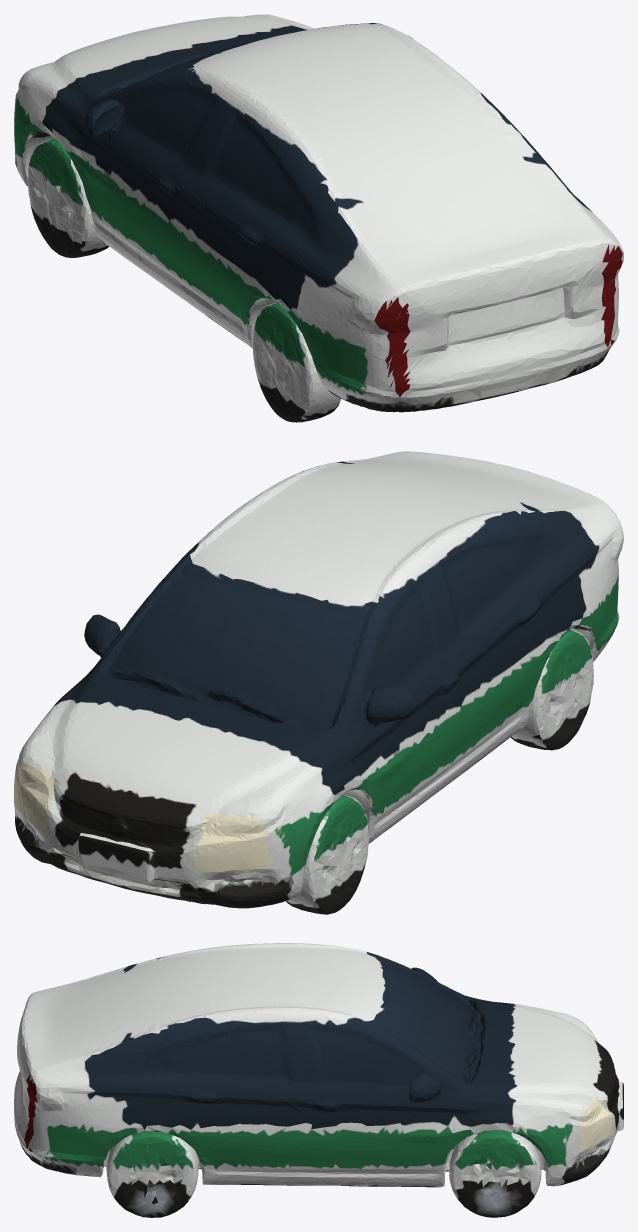
Rendered from police.glb.
The picture shows the model from 3 angles, top to bottom: view 1: azimuth 30°, elevation 25°; view 2: azimuth 150°, elevation 25°; view 3: azimuth 270°, elevation 25°; orthographic projection. The views are drawn at different scales.
Parts seen in each view (by area): view 1: body, taillights_rear; view 2: body, headlights_front; view 3: body, wheel_2, wheel_3, headlights_front, taillights_rear.
Part boxes in pixels (box(x1,y1,x2,y2)): body: box(14, 14, 623, 422); taillights_rear: box(363, 244, 622, 396); body: box(14, 451, 623, 914); headlights_front: box(14, 760, 273, 874); body: box(14, 943, 623, 1217); wheel_2: box(463, 1179, 524, 1217); wheel_3: box(124, 1180, 181, 1217); headlights_front: box(554, 1028, 613, 1152); taillights_rear: box(24, 1074, 37, 1151).
Size of the model in its own units: 98.52 by 72.46 by 208.
7 materials, 1 textured.
